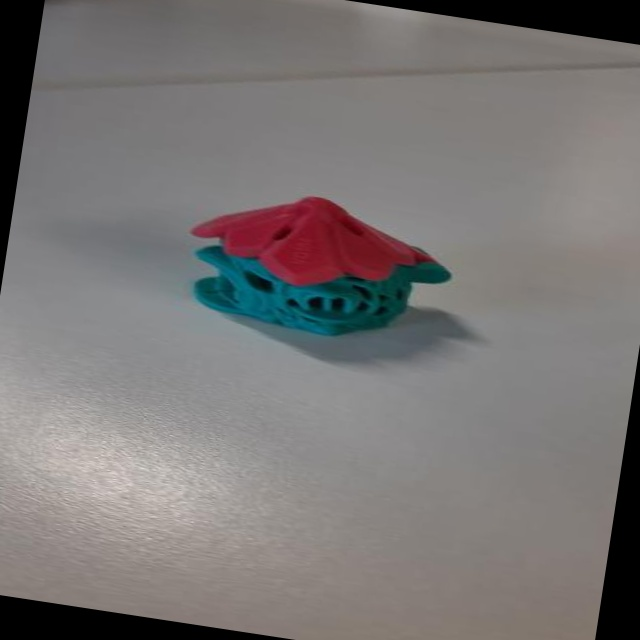House: (152, 162, 521, 388)
